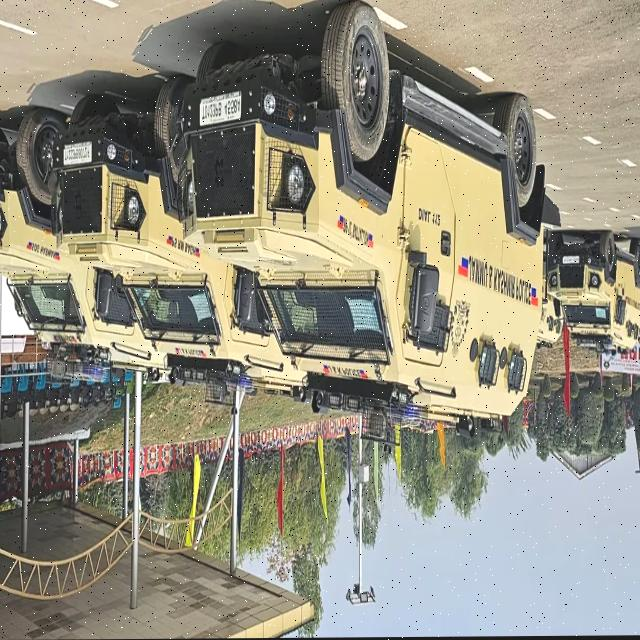plate: (198, 89, 244, 131), (59, 138, 96, 167), (562, 253, 581, 265)
